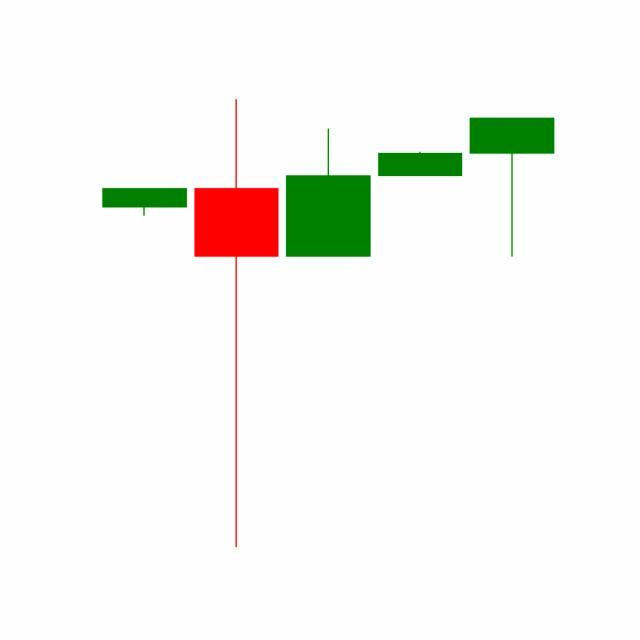Hanging Man: (466, 116, 559, 259)
